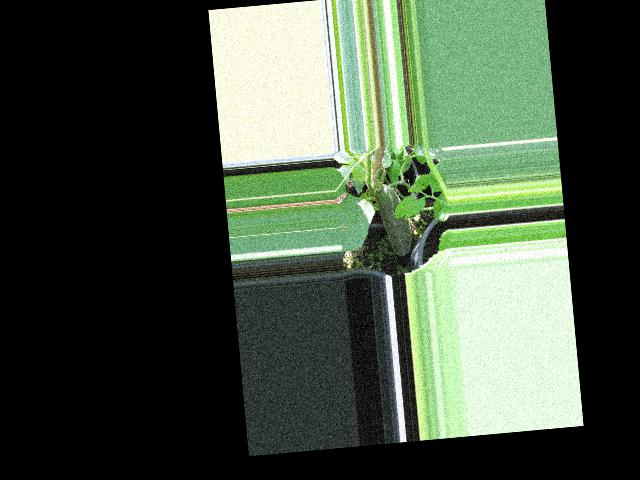cucumber: (374, 182, 413, 257)
